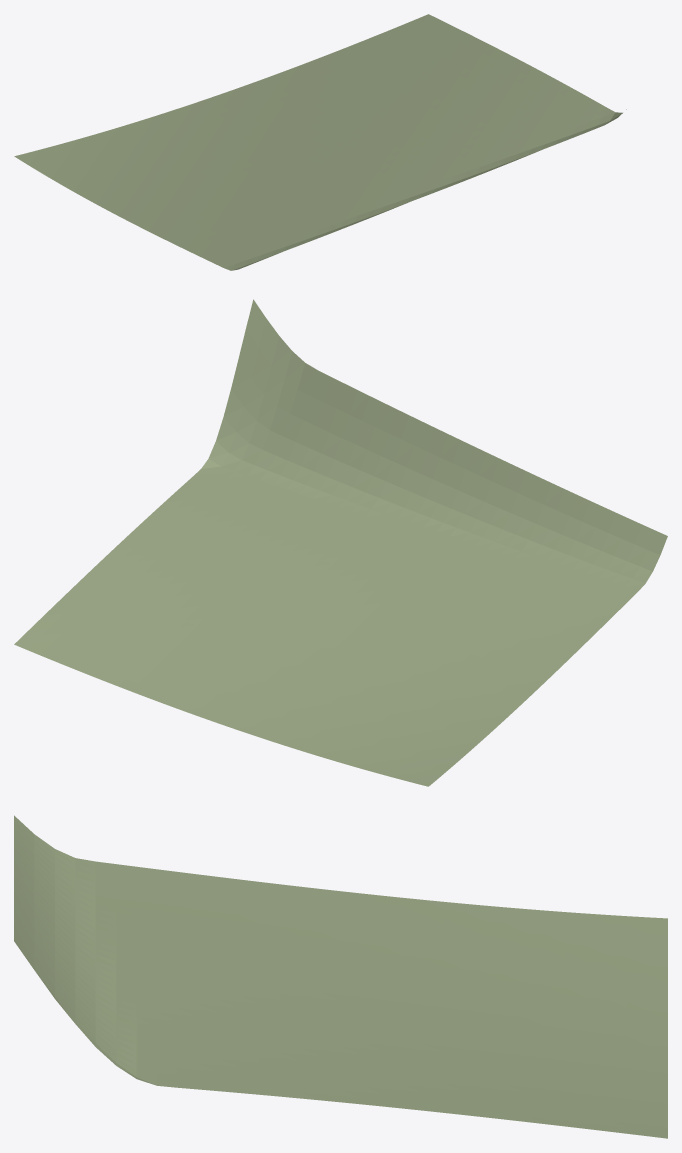
Rendered from alpine-5-1.glb.
3 renders of one model, top to bottom at view 1: azimuth 30°, elevation 25°; view 2: azimuth 150°, elevation 25°; view 3: azimuth 270°, elevation 25°, orthographic. The views are drawn at different scales.
Visible parts, largest first — view 1: alpine-5-1; view 2: alpine-5-1; view 3: alpine-5-1.
Boxes of the visible parts, x1,y1,x2,y2 form: alpine-5-1: [14, 14, 626, 270]; alpine-5-1: [14, 299, 667, 786]; alpine-5-1: [14, 815, 667, 1138].
Size of the model in its own units: 256 by 125 by 256.
